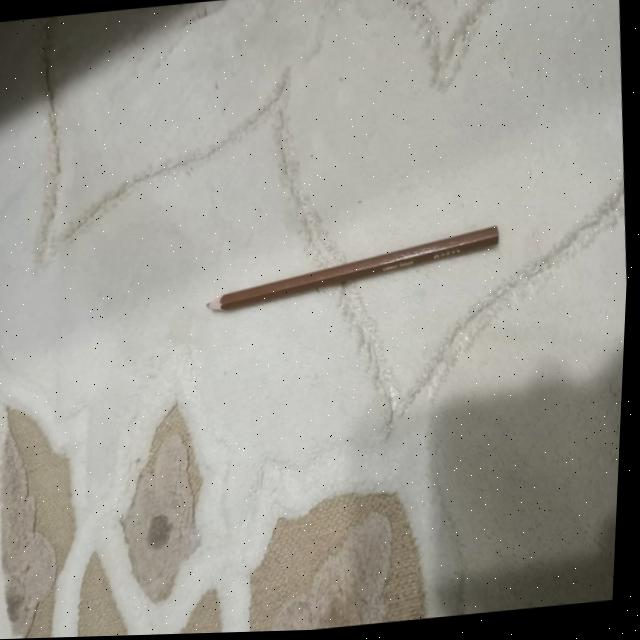pencil: (201, 226, 517, 327)
